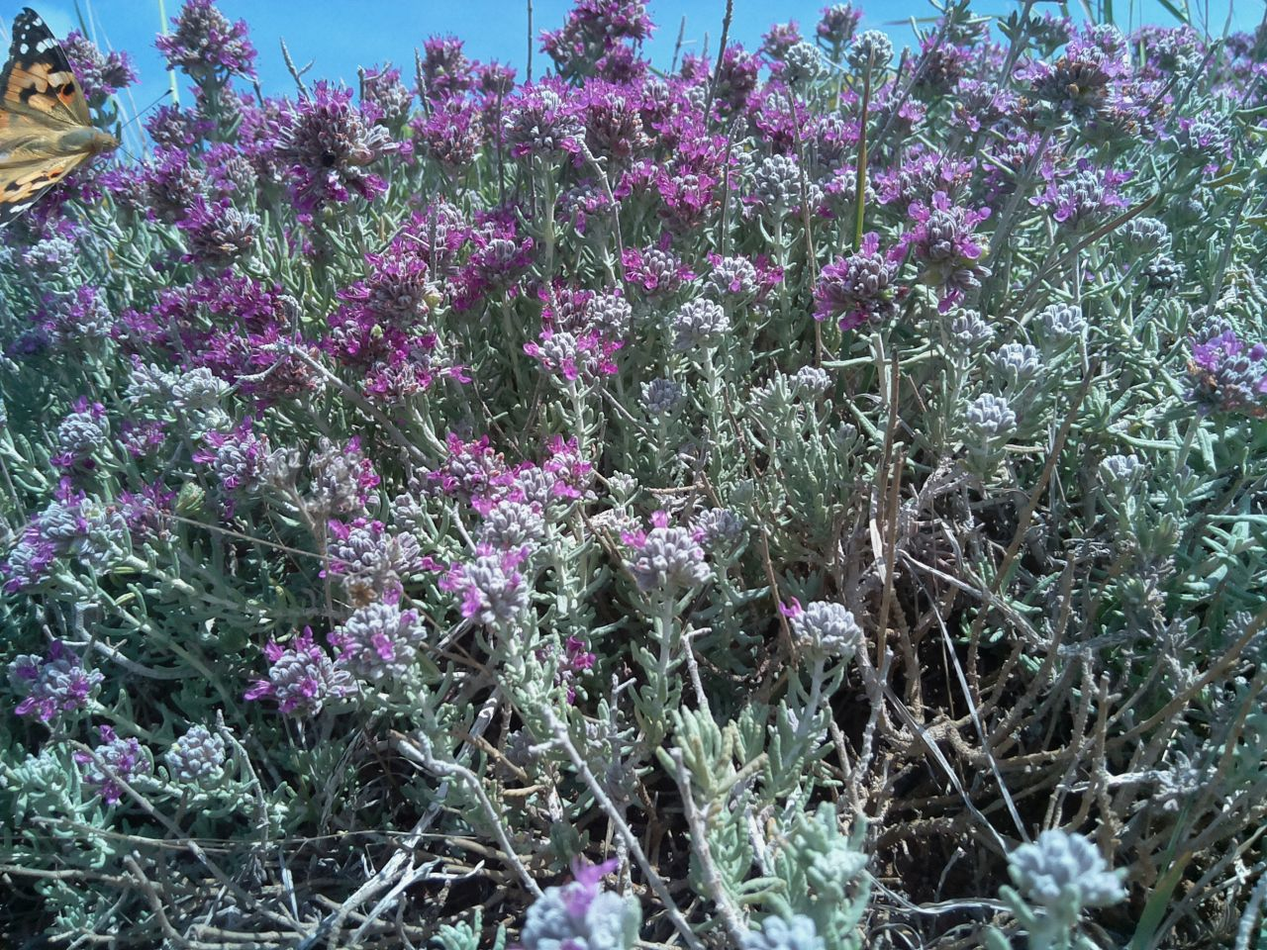Butterfly: (3, 4, 174, 233)
